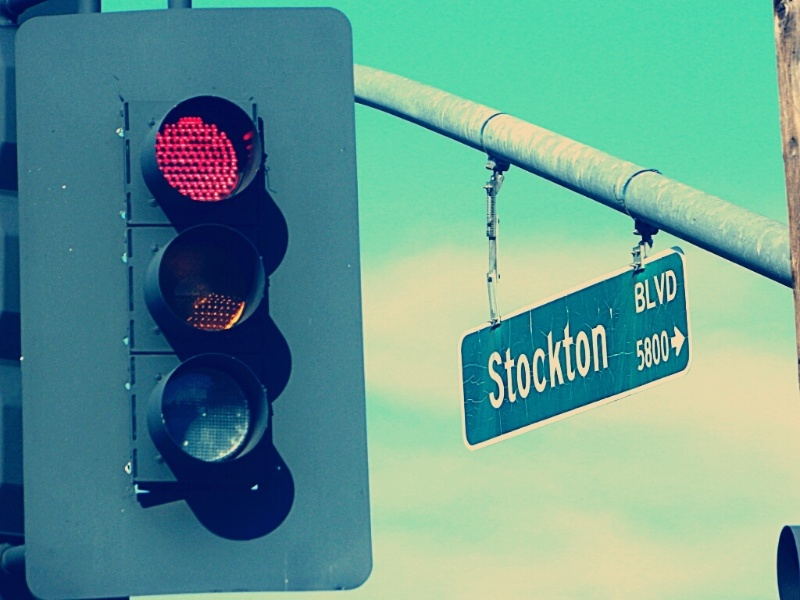red_light: (123, 91, 286, 227)
